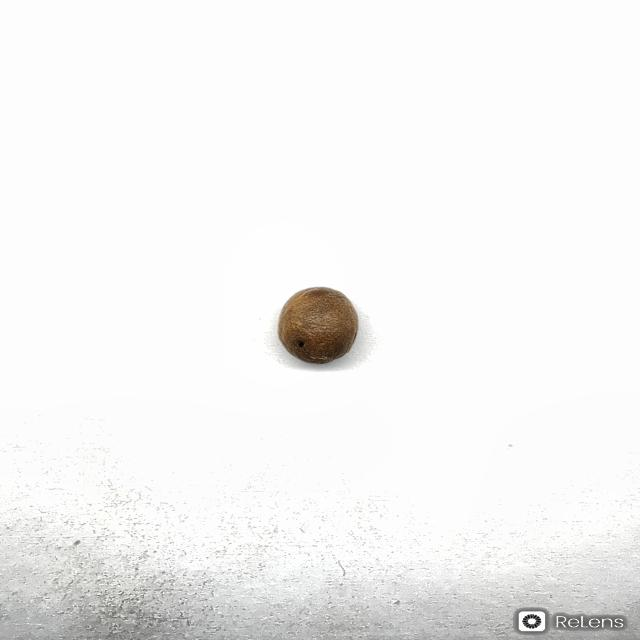Insect damage: (276, 286, 359, 364)
